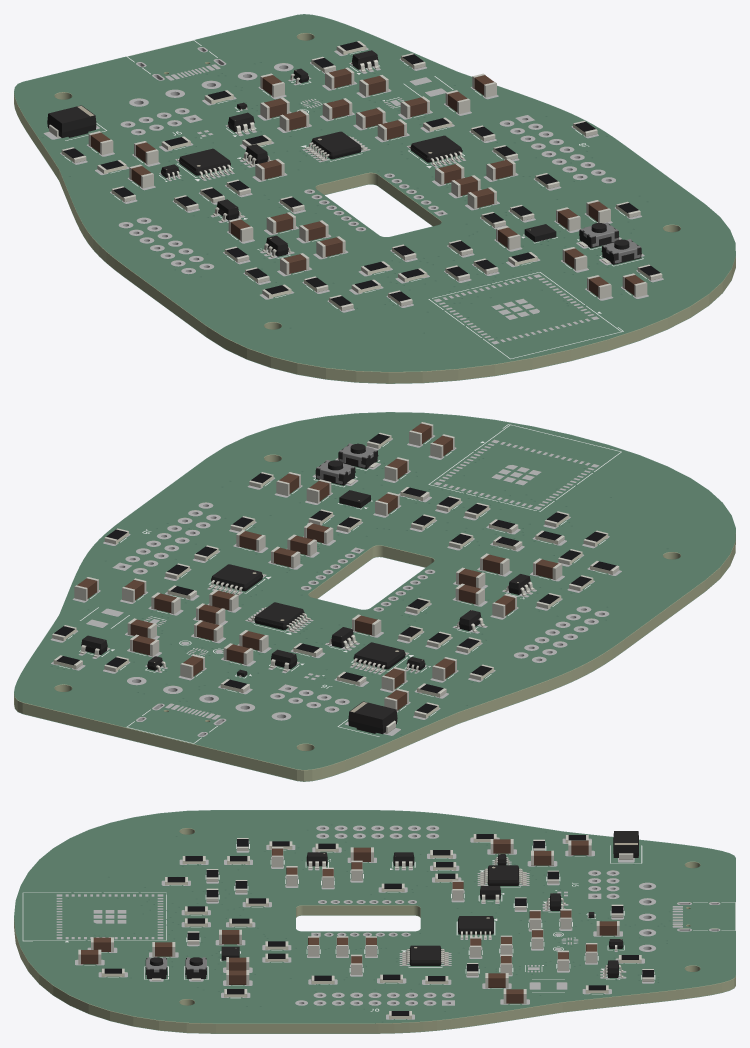
Rendered from Lower.glb.
The picture shows the model from 3 angles, top to bottom: view 1: azimuth 30°, elevation 25°; view 2: azimuth 150°, elevation 25°; view 3: azimuth 270°, elevation 25°; orthographic projection. The views are drawn at different scales.
Visible parts, largest first — view 1: =>[0:1:1:29], =>[0:1:1:27], =>[0:1:1:24], =>[0:1:1:9] (×3), =>[0:1:1:25], =>[0:1:1:17] (×2), =>[0:1:1:19], =>[0:1:1:28]; view 2: =>[0:1:1:29], =>[0:1:1:27], =>[0:1:1:24], =>[0:1:1:9] (×3), =>[0:1:1:25], =>[0:1:1:17] (×2), =>[0:1:1:19], =>[0:1:1:28]; view 3: =>[0:1:1:27], =>[0:1:1:29], =>[0:1:1:24], =>[0:1:1:9] (×3), =>[0:1:1:25], =>[0:1:1:17] (×2), =>[0:1:1:28], =>[0:1:1:19], =>[0:1:1:3].
Boxes of the visible parts, x1,y1,x2,y2 form: =>[0:1:1:29]: [14, 15, 735, 383]; =>[0:1:1:27]: [14, 14, 735, 371]; =>[0:1:1:24]: [43, 47, 663, 344]; =>[0:1:1:9] (×3): [177, 131, 464, 179]; =>[0:1:1:25]: [47, 40, 646, 359]; =>[0:1:1:17] (×2): [579, 222, 642, 264]; =>[0:1:1:19]: [47, 105, 96, 137]; =>[0:1:1:28]: [14, 106, 731, 383]; =>[0:1:1:29]: [14, 413, 735, 781]; =>[0:1:1:27]: [14, 412, 735, 769]; =>[0:1:1:24]: [50, 435, 621, 736]; =>[0:1:1:9] (×3): [209, 564, 407, 672]; =>[0:1:1:25]: [59, 424, 621, 743]; =>[0:1:1:17] (×2): [315, 443, 378, 485]; =>[0:1:1:19]: [348, 701, 397, 734]; =>[0:1:1:28]: [15, 544, 735, 781]; =>[0:1:1:27]: [14, 810, 735, 1023]; =>[0:1:1:29]: [14, 811, 735, 1033]; =>[0:1:1:24]: [56, 825, 720, 1019]; =>[0:1:1:9] (×3): [402, 865, 526, 965]; =>[0:1:1:25]: [22, 842, 735, 1019]; =>[0:1:1:17] (×2): [145, 957, 206, 980]; =>[0:1:1:28]: [21, 915, 735, 1033]; =>[0:1:1:19]: [613, 831, 638, 859]; =>[0:1:1:3]: [568, 840, 591, 855].
Bounding box in the file's own units: 0.07 × 0.0038 × 0.1.
